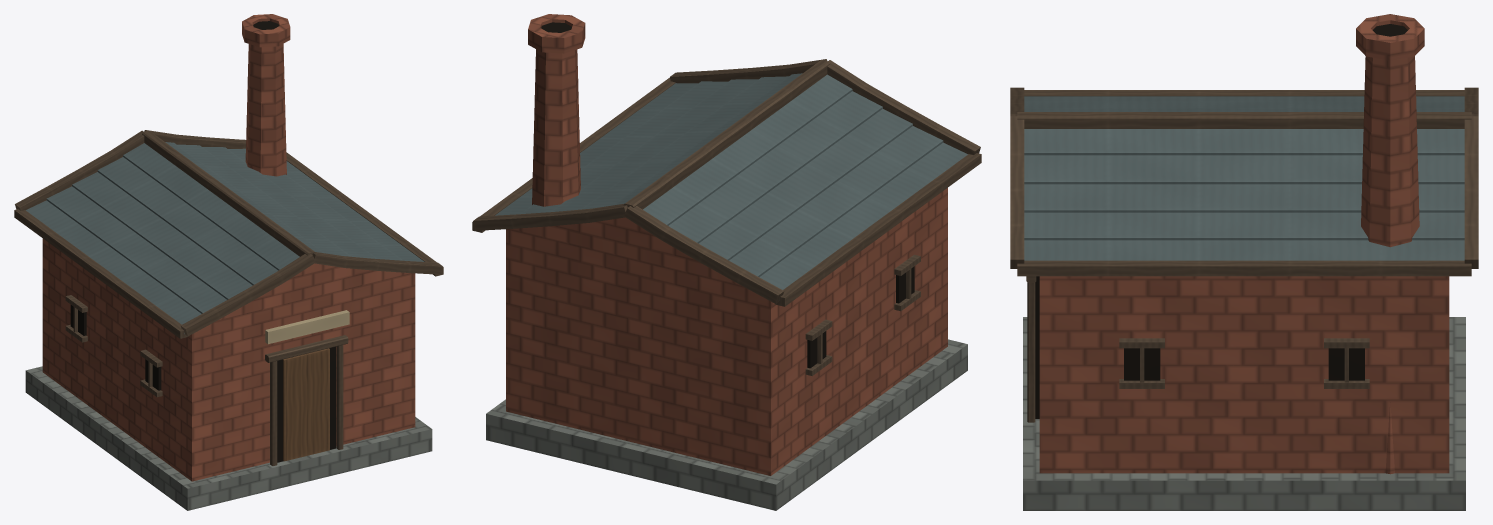
Rendered from industrial-pump-house.glb.
3 renders of one model, left to right at view 1: azimuth 30°, elevation 25°; view 2: azimuth 150°, elevation 25°; view 3: azimuth 270°, elevation 25°, orthographic. The views are drawn at different scales.
Parts seen in each view (by area): view 1: industrial-pump-house; view 2: industrial-pump-house; view 3: industrial-pump-house.
Part boxes in pixels (left/top/right/bottom): industrial-pump-house: left=14, top=14, right=443, bottom=510; industrial-pump-house: left=472, top=14, right=981, bottom=510; industrial-pump-house: left=1010, top=14, right=1478, bottom=510.
Size of the model in its own units: 0.7652 by 0.9347 by 0.86.
1 material, 1 textured.
